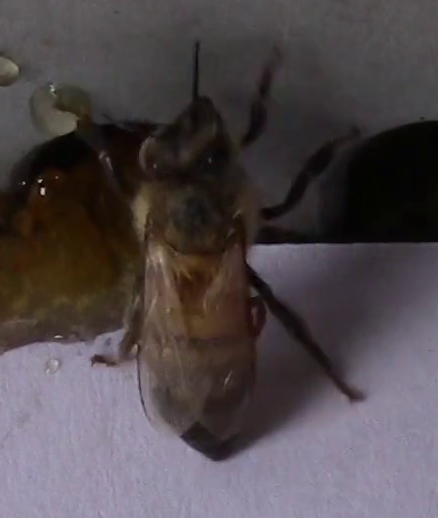Varroa destructor: (246, 291, 272, 343)
